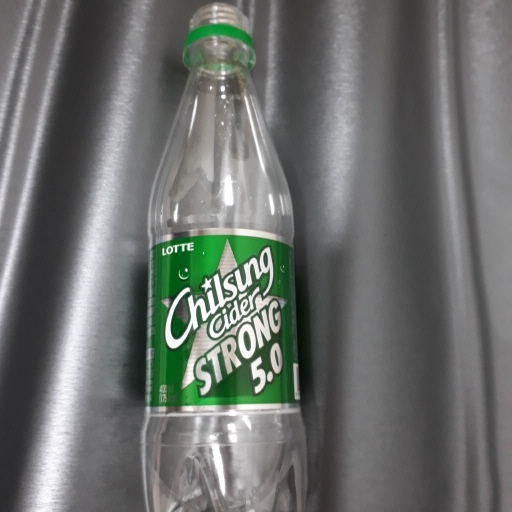Plastic_0: (137, 2, 308, 512)
